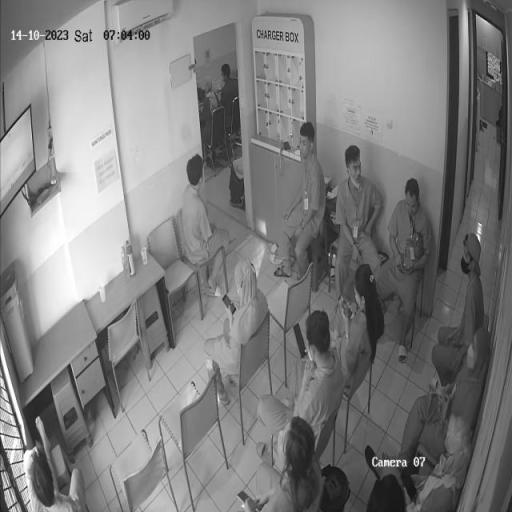person: (387, 328, 491, 475), (258, 311, 343, 447), (366, 414, 474, 512), (375, 179, 432, 364), (205, 261, 268, 404), (433, 234, 486, 392), (276, 124, 328, 283), (237, 418, 321, 512), (336, 146, 384, 303), (183, 155, 231, 298), (331, 265, 382, 392), (27, 418, 87, 512), (200, 77, 221, 164), (222, 64, 240, 149)
